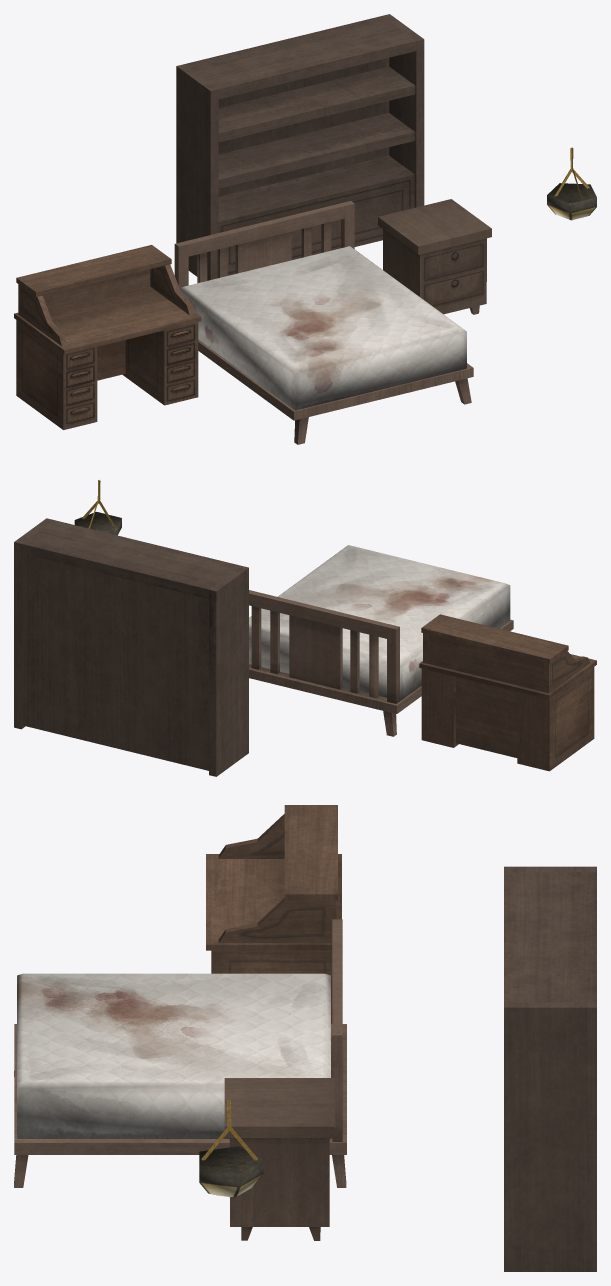
Rendered from BedFurniture.fbx.
The picture shows the model from 3 angles, top to bottom: view 1: azimuth 30°, elevation 25°; view 2: azimuth 150°, elevation 25°; view 3: azimuth 270°, elevation 25°; orthographic projection. The views are drawn at different scales.
Parts seen in each view (by area): view 1: Bookshelf, Bed, Desk, Nightstand, Ceiling Lamp; view 2: Bookshelf, Bed, Desk, Ceiling Lamp; view 3: Bed, Bookshelf, Desk, Nightstand, Ceiling Lamp.
Part boxes in pixels (bbox=[...]): Bookshelf: bbox=[176, 14, 424, 280]; Bed: bbox=[174, 201, 473, 444]; Desk: bbox=[14, 245, 201, 429]; Nightstand: bbox=[377, 199, 491, 314]; Ceiling Lamp: bbox=[547, 147, 596, 220]; Bookshelf: bbox=[14, 518, 248, 776]; Bed: bbox=[249, 545, 513, 736]; Desk: bbox=[419, 614, 596, 771]; Ceiling Lamp: bbox=[74, 480, 121, 535]; Bed: bbox=[14, 919, 346, 1187]; Bookshelf: bbox=[504, 866, 596, 1271]; Desk: bbox=[206, 805, 341, 1023]; Nightstand: bbox=[224, 1078, 334, 1240]; Ceiling Lamp: bbox=[199, 1100, 263, 1197].
Bounding box in the file's own units: 1051 × 729 × 370.
5 materials, 5 textured.
